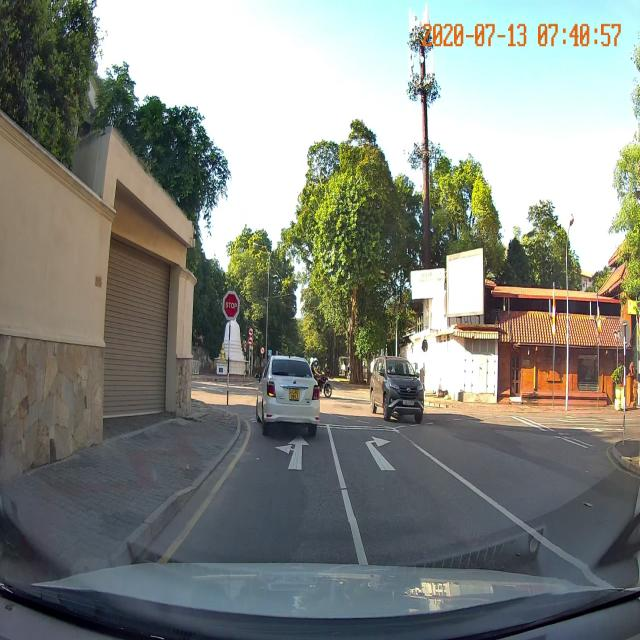forward_lft: (212, 425, 350, 503)
